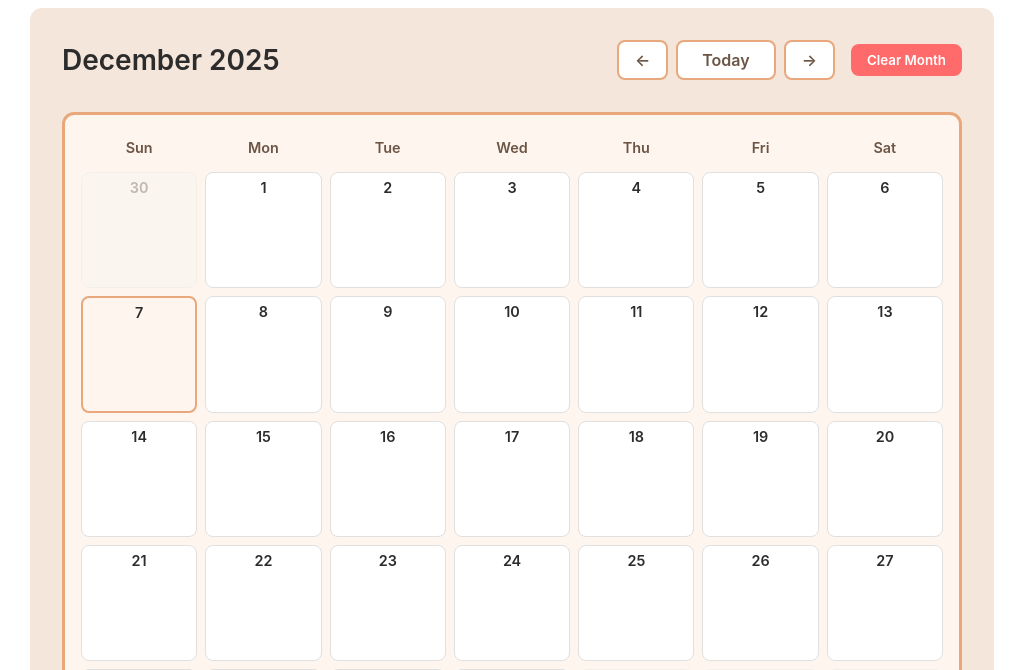
Test case: CalendarMonth › navigates to next month when clicking next button
The image size is (1024, 670).
Step 1. Click the button "→" → (809, 60), box [784,40,835,80]
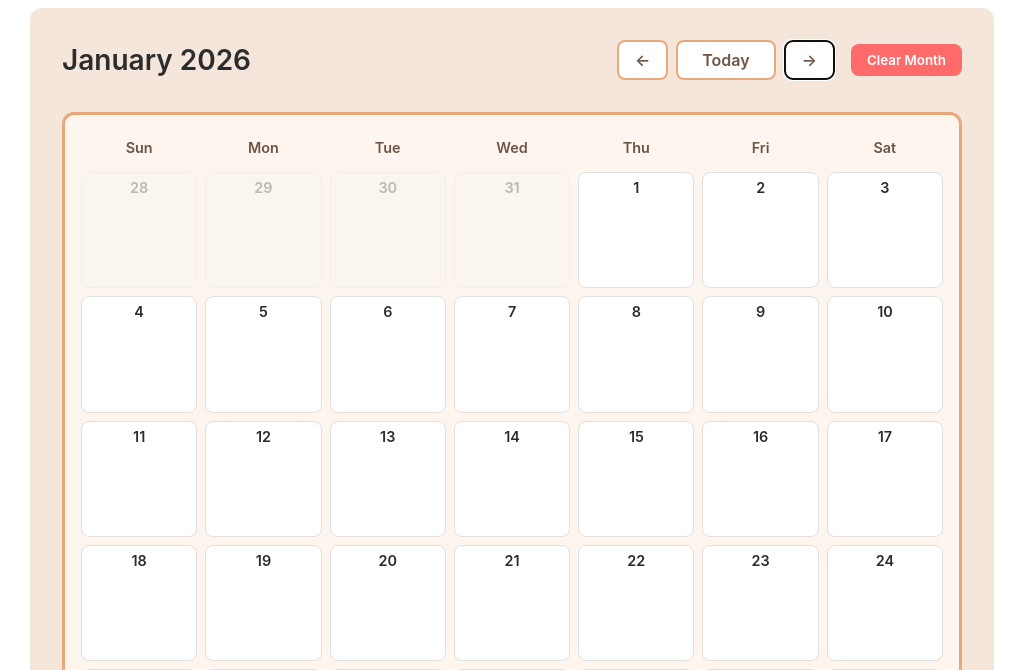
Result: the heading "January 2026" is shown at [62,43,251,77]
